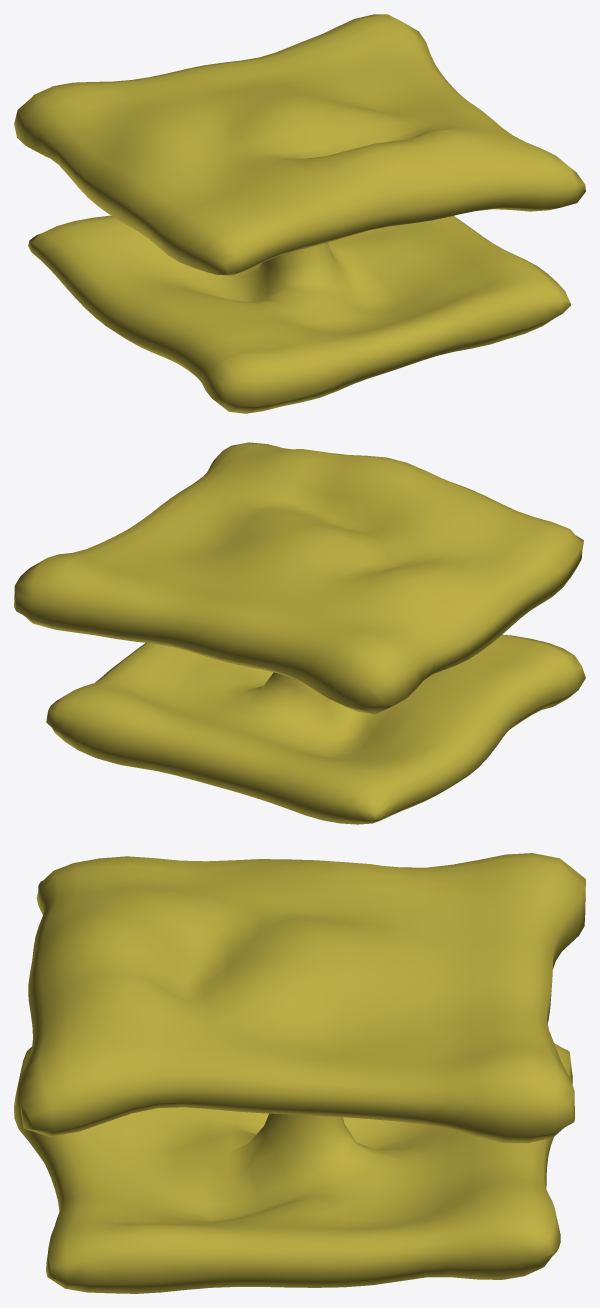
The model's file is worldB.gltf.
3 views of the same model, one above another, from view 1: azimuth 30°, elevation 25°; view 2: azimuth 150°, elevation 25°; view 3: azimuth 270°, elevation 25° (orthographic). The views are drawn at different scales.
Parts seen in each view (by area): view 1: navMeshB; view 2: navMeshB; view 3: navMeshB.
Boxes of the visible parts, x1,y1,x2,y2 form: navMeshB: (14,14,585,413); navMeshB: (14,442,585,824); navMeshB: (14,853,585,1293).
Size of the model in its own units: 150 by 91.52 by 144.
